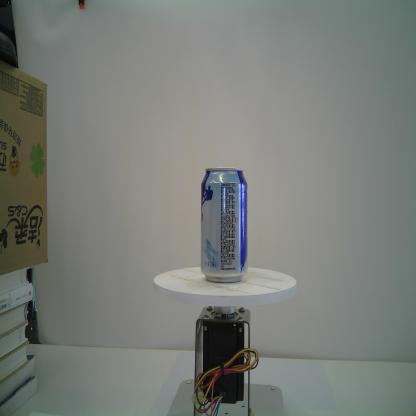Alcohol: (200, 166, 247, 284)
